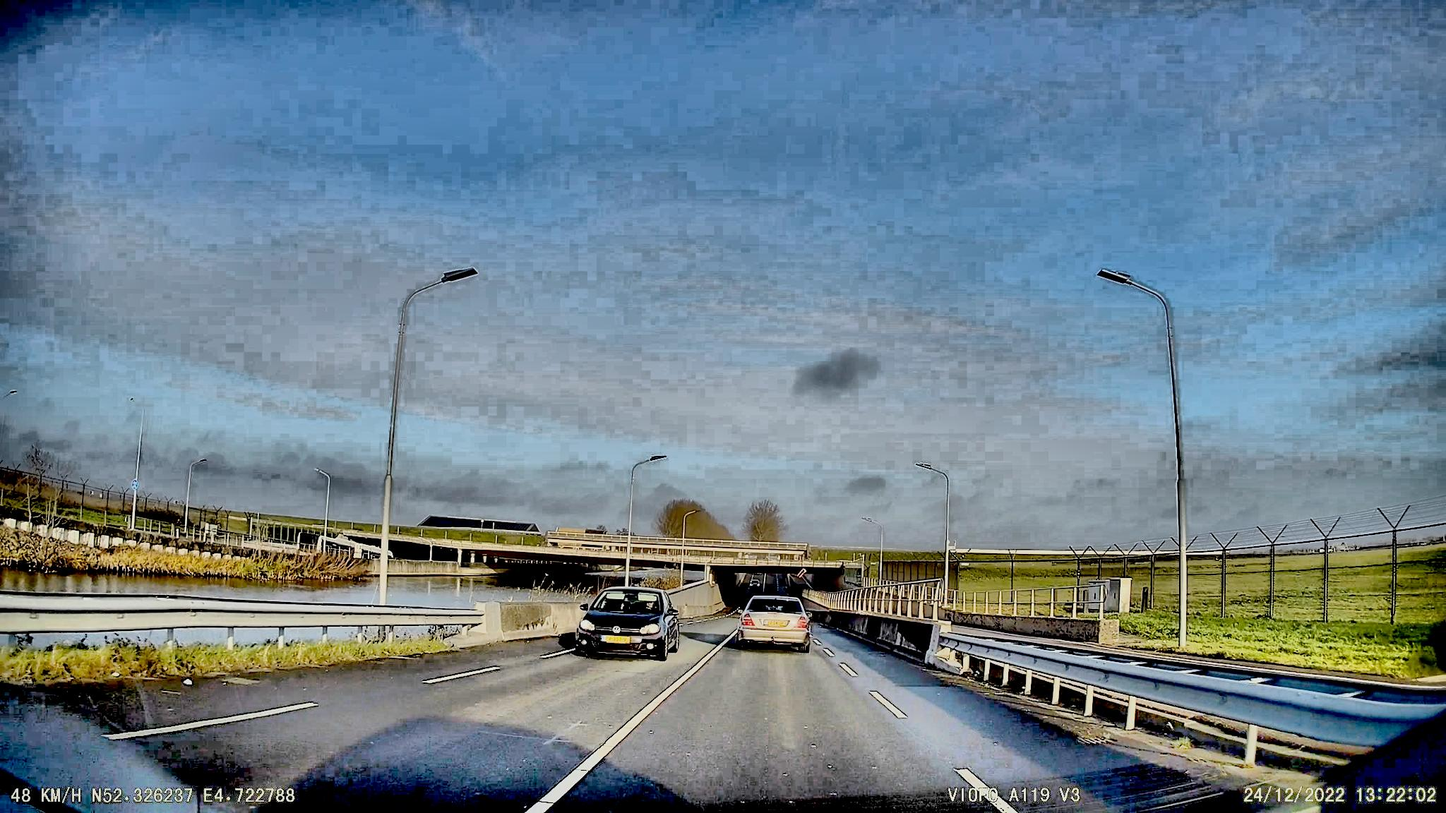Roads: (0, 620, 1257, 813)
